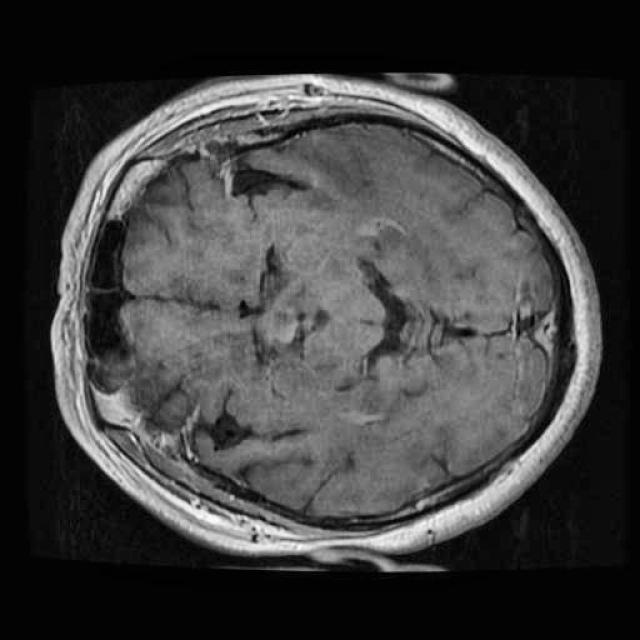Tumor: (248, 294, 314, 360)
